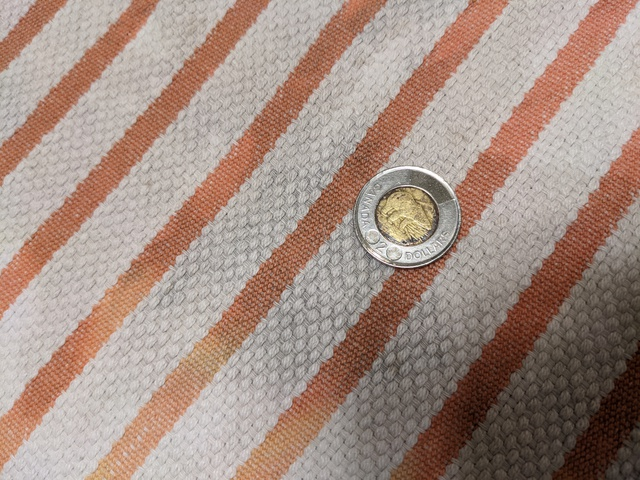twonie: (346, 167, 479, 278)
